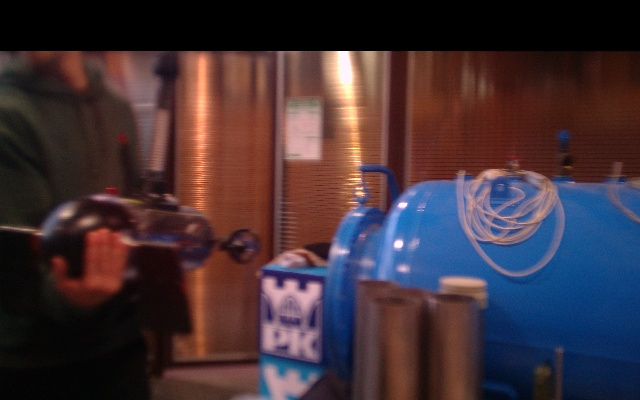black: (147, 100, 174, 172)
